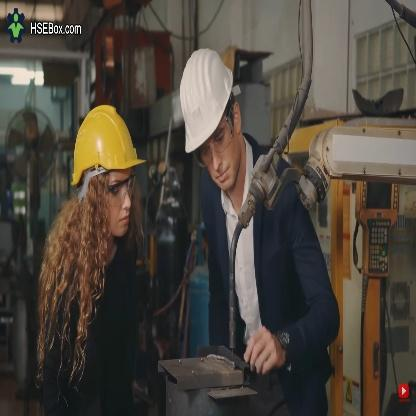helmet: (160, 33, 254, 205), (52, 100, 154, 249)
